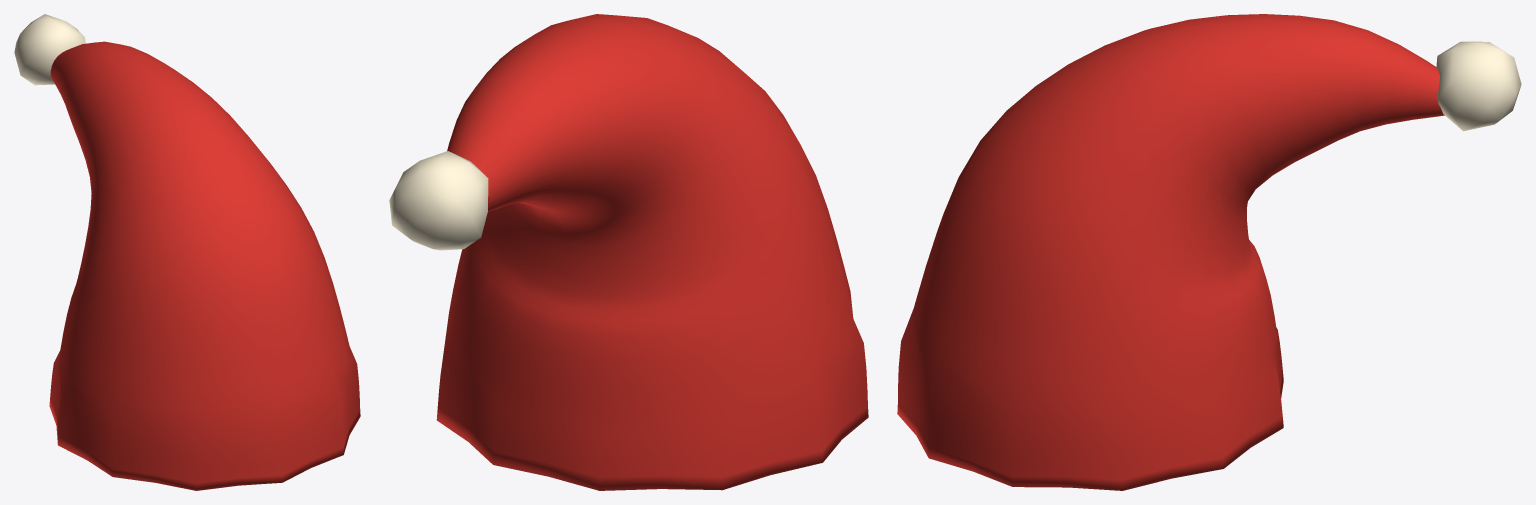
File: gnomeHat.fbx
The picture shows the model from 3 angles, left to right: view 1: azimuth 30°, elevation 25°; view 2: azimuth 150°, elevation 25°; view 3: azimuth 270°, elevation 25°; orthographic projection. The views are drawn at different scales.
Parts seen in each view (by area): view 1: gnomeHat; view 2: gnomeHat; view 3: gnomeHat.
Boxes of the visible parts, x1,y1,x2,y2 form: gnomeHat: (14, 14, 360, 490); gnomeHat: (389, 14, 868, 490); gnomeHat: (897, 14, 1521, 490).
Bounding box in the file's own units: 0.3874 × 0.4305 × 0.6192.
